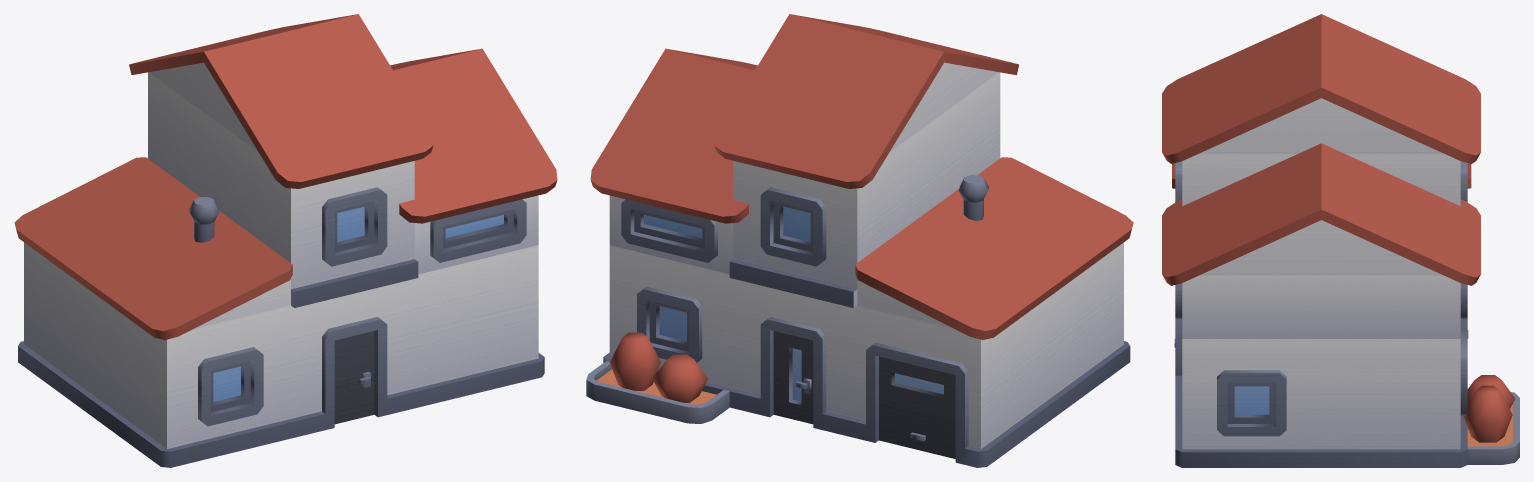
Rendered from house-c-red.glb.
3 renders of one model, left to right at view 1: azimuth 30°, elevation 25°; view 2: azimuth 150°, elevation 25°; view 3: azimuth 270°, elevation 25°, orthographic. The views are drawn at different scales.
Parts seen in each view (by area): view 1: building-type-c; view 2: building-type-c; view 3: building-type-c.
Part boxes in pixels (x1,y1,x2,y2): building-type-c: [14, 14, 557, 467]; building-type-c: [586, 14, 1133, 467]; building-type-c: [1162, 14, 1519, 467].
Size of the model in its own units: 1.29 by 1.03 by 1.03.
2 materials, 1 textured.
